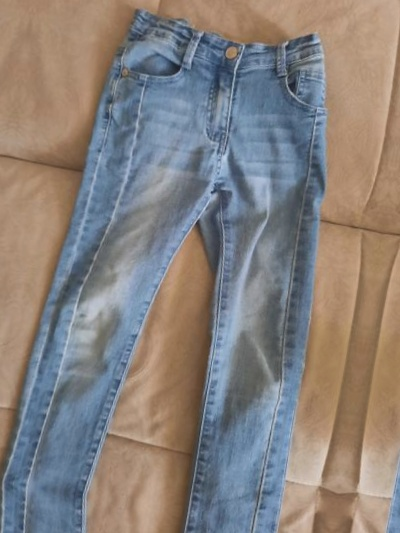Pants: (0, 0, 365, 526), (0, 481, 281, 533), (381, 53, 400, 533), (0, 0, 10, 466)
